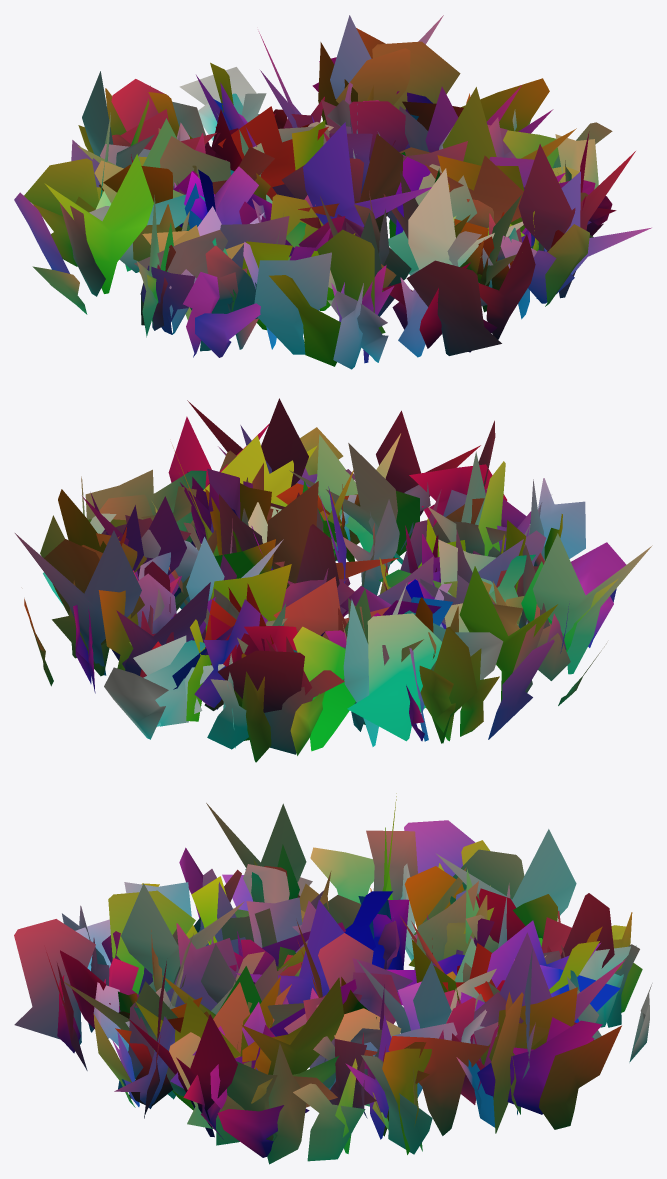
Rendered from Grass_Clumps_rbojr_High_rbojr_VarA_LOD0.fbx.
3 renders of one model, top to bottom at view 1: azimuth 30°, elevation 25°; view 2: azimuth 150°, elevation 25°; view 3: azimuth 270°, elevation 25°, orthographic. The views are drawn at different scales.
Parts seen in each view (by area): view 1: _d6a4_VarA_LOD0; view 2: _d6a4_VarA_LOD0; view 3: _d6a4_VarA_LOD0.
Boxes of the visible parts, x1,y1,x2,y2 form: _d6a4_VarA_LOD0: [14, 15, 651, 369]; _d6a4_VarA_LOD0: [15, 398, 652, 762]; _d6a4_VarA_LOD0: [14, 793, 652, 1164].
Bounding box in the file's own units: 85.22 × 23.73 × 85.32.
